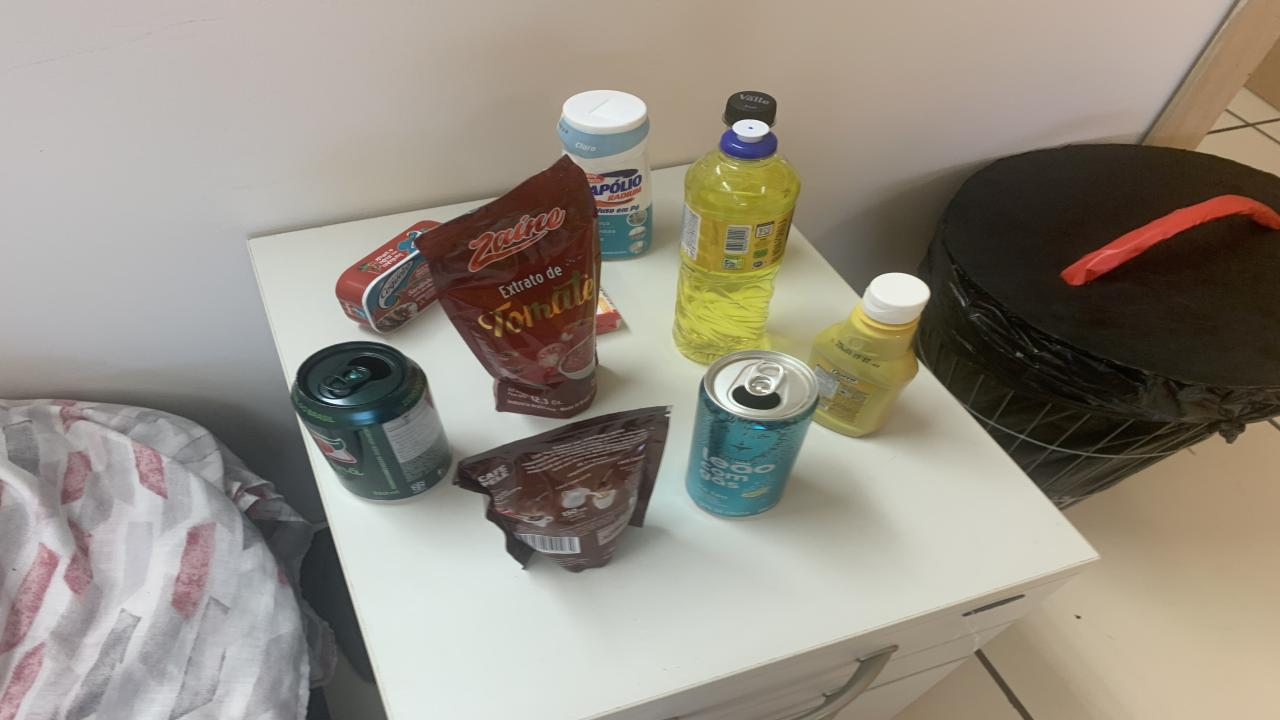Cleaner-Cleanup_Items: (558, 90, 652, 259)
Coffee-Pantry_Items: (452, 407, 670, 572)
Detergent-Cleanup_Items: (672, 120, 800, 364)
English_Sauce-Pantry_Items: (722, 90, 778, 128)
Guarana_Can-Drinks: (290, 341, 452, 501)
Mustard-Pantry_Items: (810, 272, 930, 437)
Tea-Drinks: (685, 351, 818, 518)
Tomato_Sauce-Pantry_Items: (418, 156, 600, 418)
Tuna_Can-Pantry_Items: (335, 221, 440, 334)
